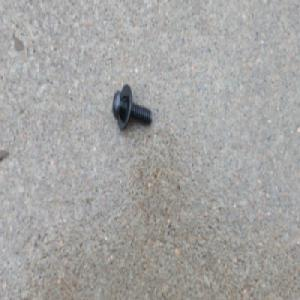BoltWasher: (113, 84, 154, 132)
